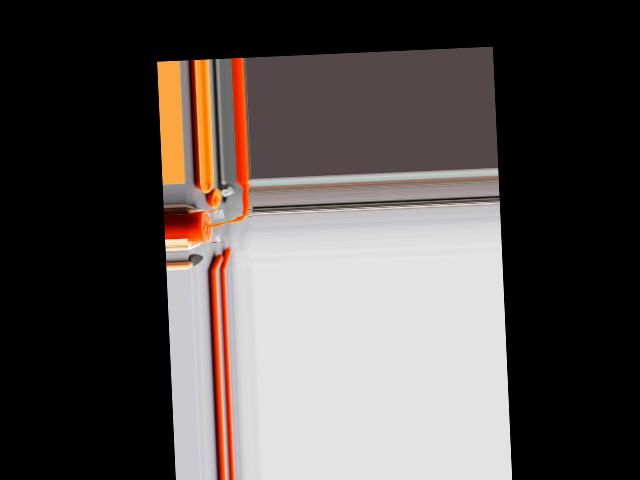carrot: (206, 246, 230, 270)
